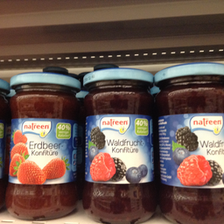jam: (81, 68, 156, 224), (6, 72, 83, 220), (153, 62, 223, 223)
